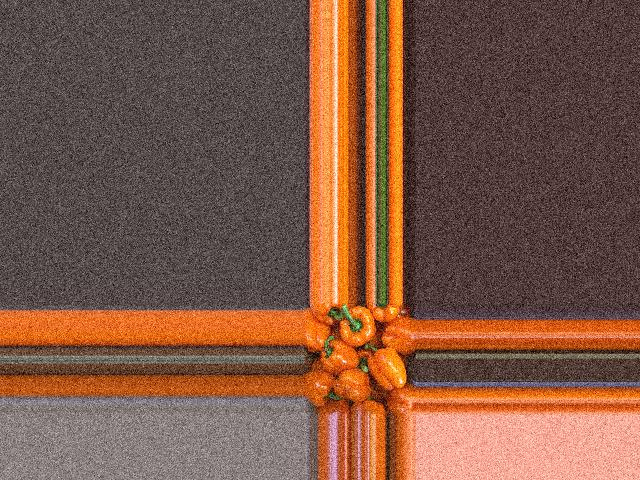bell_pepper: (315, 391, 357, 415)
